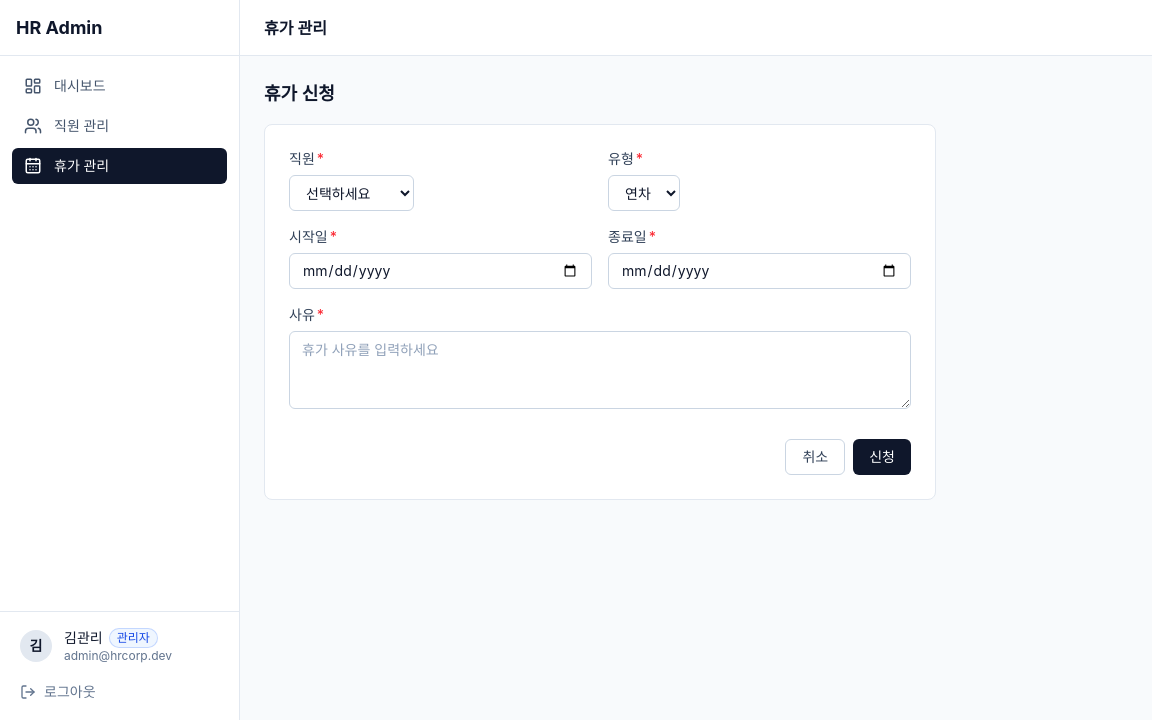
LeaveCreatePage 잔여 연차 › 반차인데 기간이 이틀이면 스키마 검증에 걸린다
Select "조우진 (차장)" in the 1st dropdown at (352, 193), box [289,175,414,211]
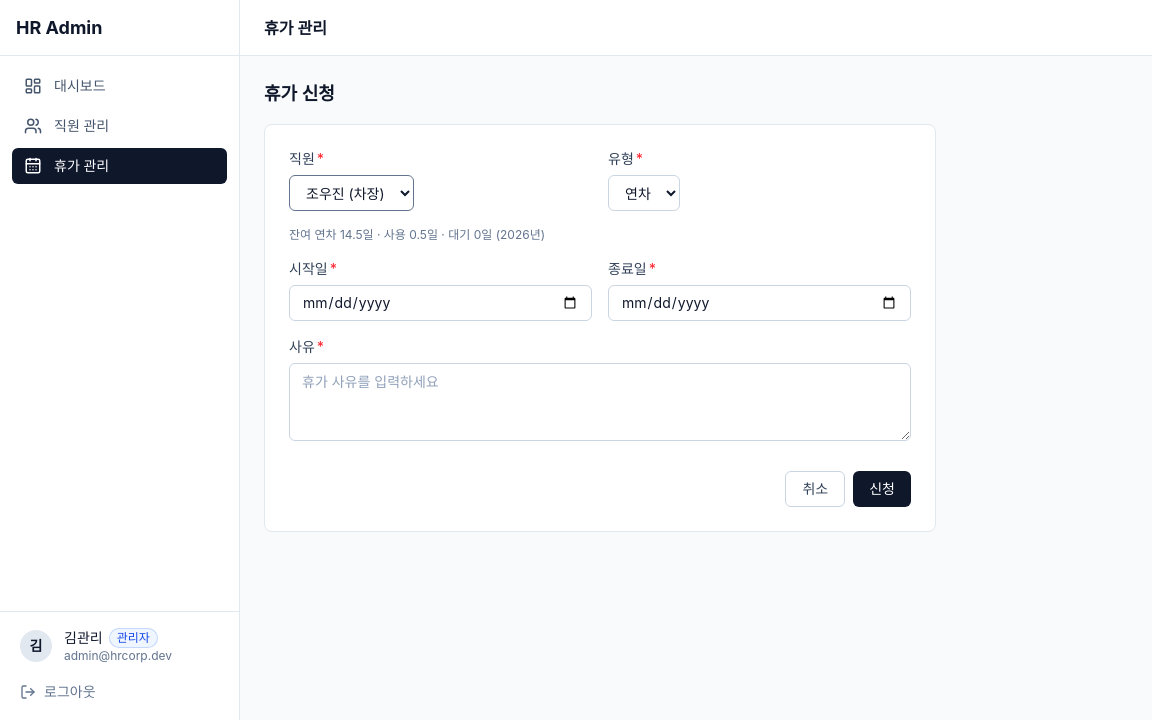
Select "반차" in the dropdown below "유형" at (644, 193), box [608,175,680,211]
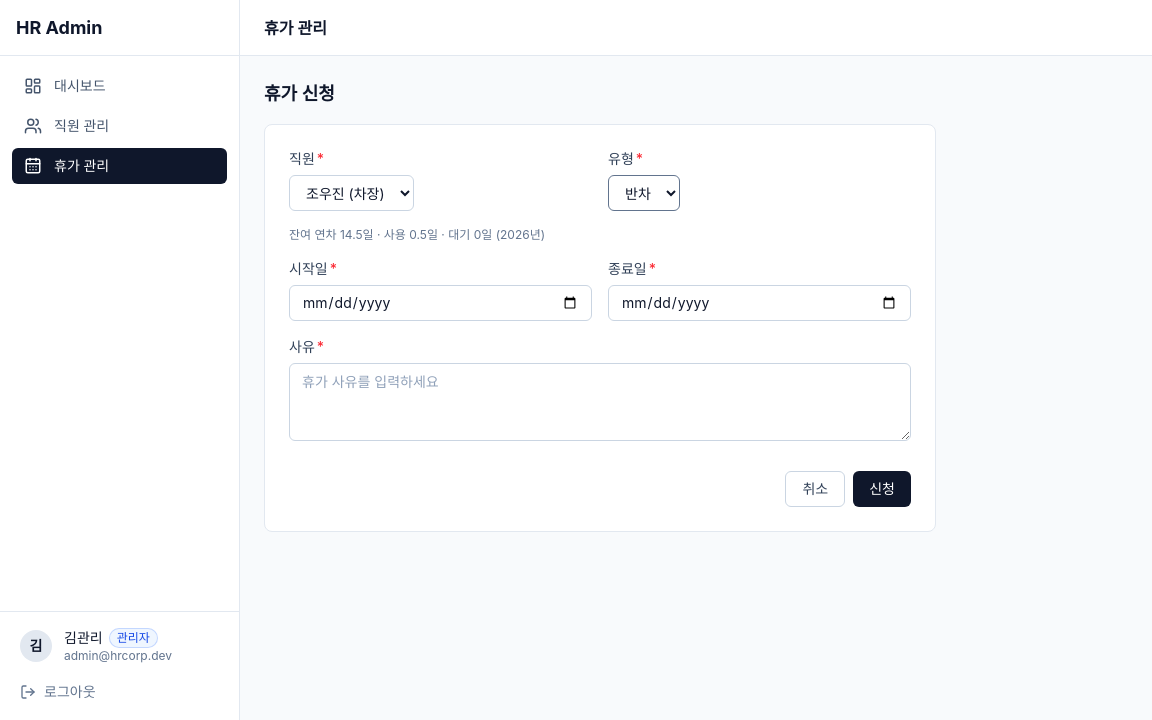
Type "2026-09-01" into the date field labelled "시작일*" at (440, 303), box [289,285,592,321]
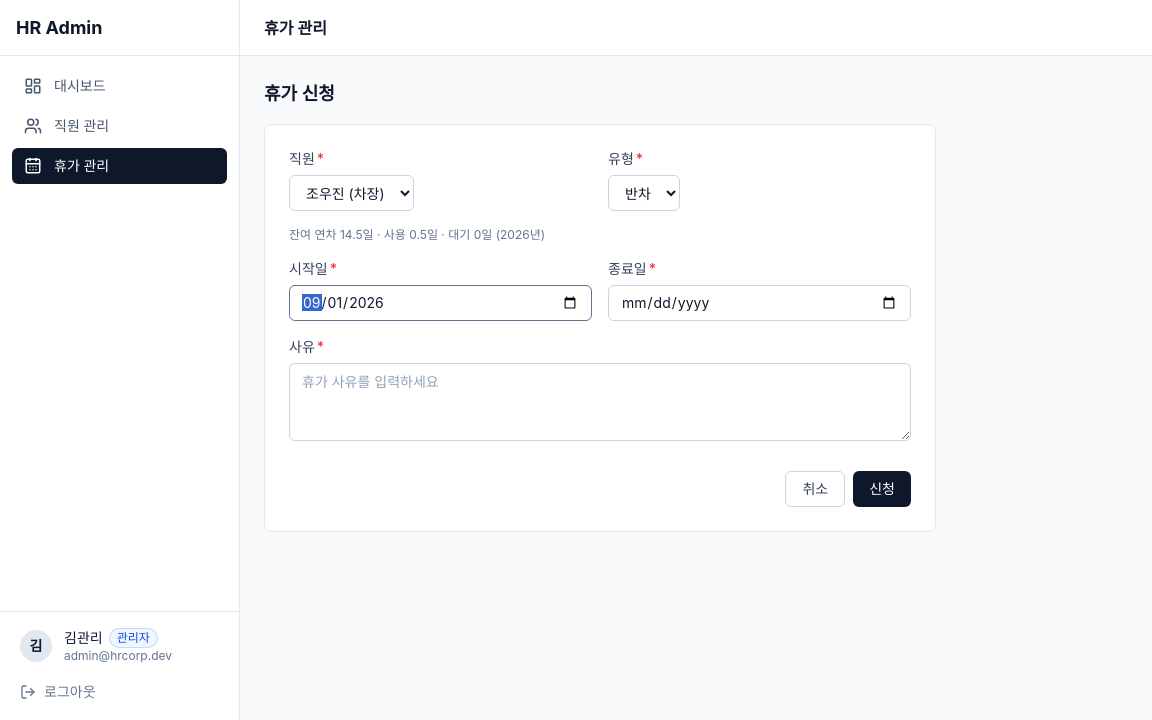
Type "2026-09-02" into the date field labelled "종료일*" at (760, 303), box [608,285,911,321]
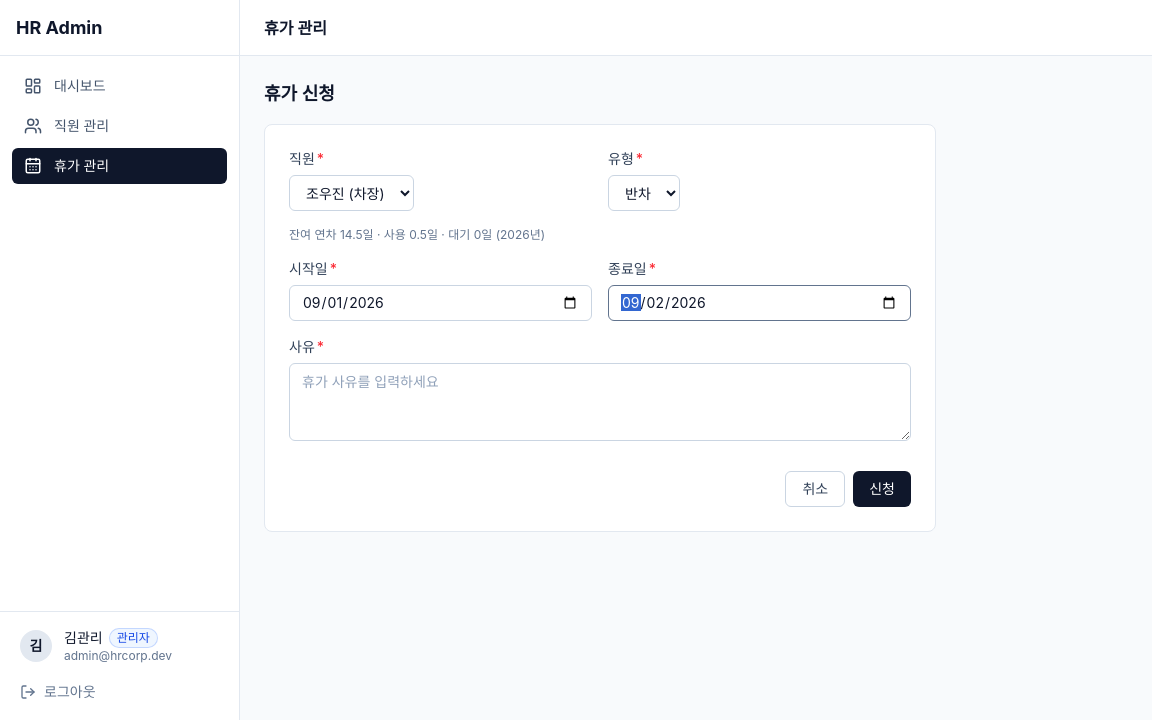
Type "가족 여행" into the text box labelled "사유*" at (600, 402), box [289,363,911,441]
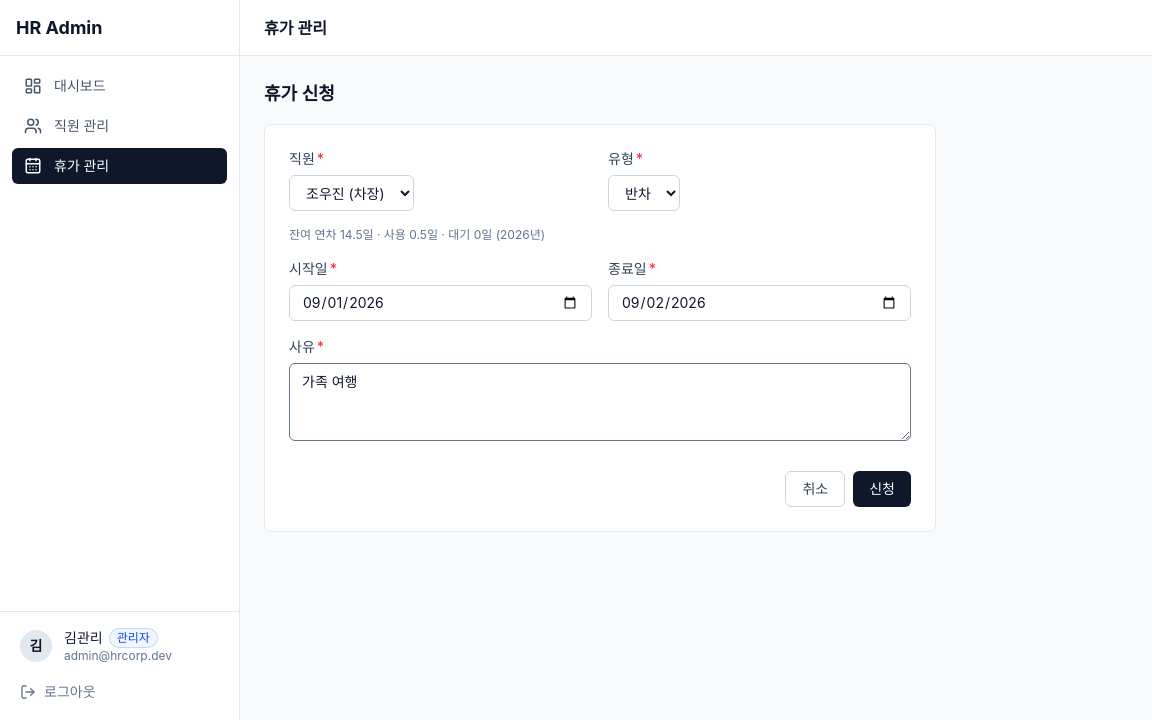
Click the button "신청" at (882, 489), box [853,471,911,507]
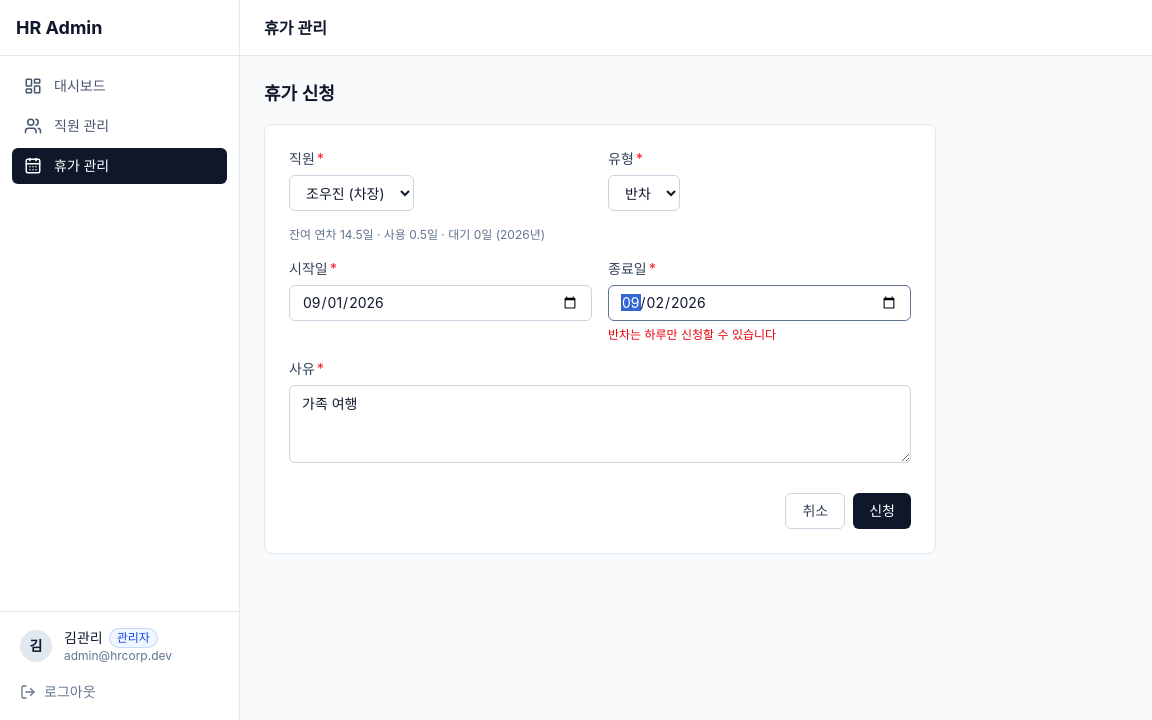
Now the text "반차는 하루만 신청할 수 있습니다" is shown, box [608,327,776,342]
